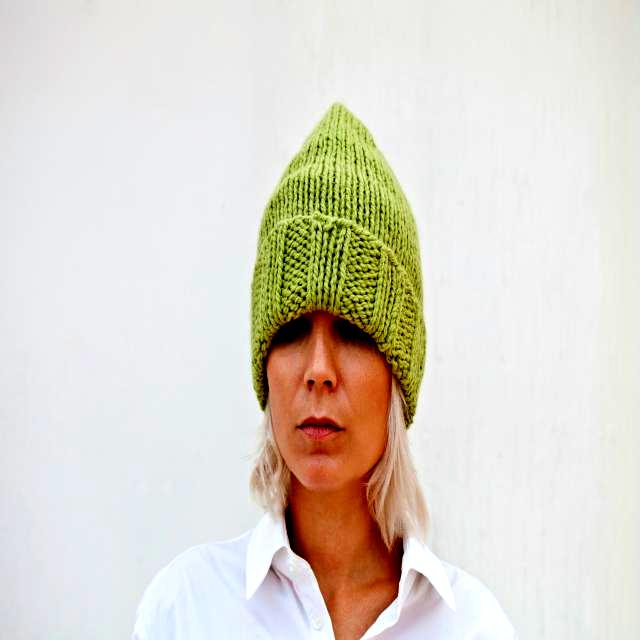no_hard_hat: (251, 103, 426, 428)
person: (133, 104, 517, 640)
